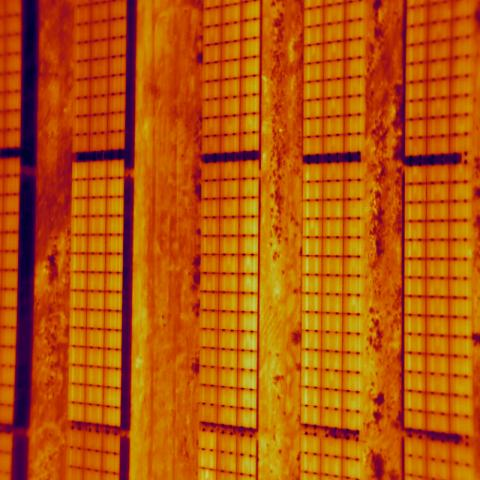fault: (198, 429, 216, 480)
